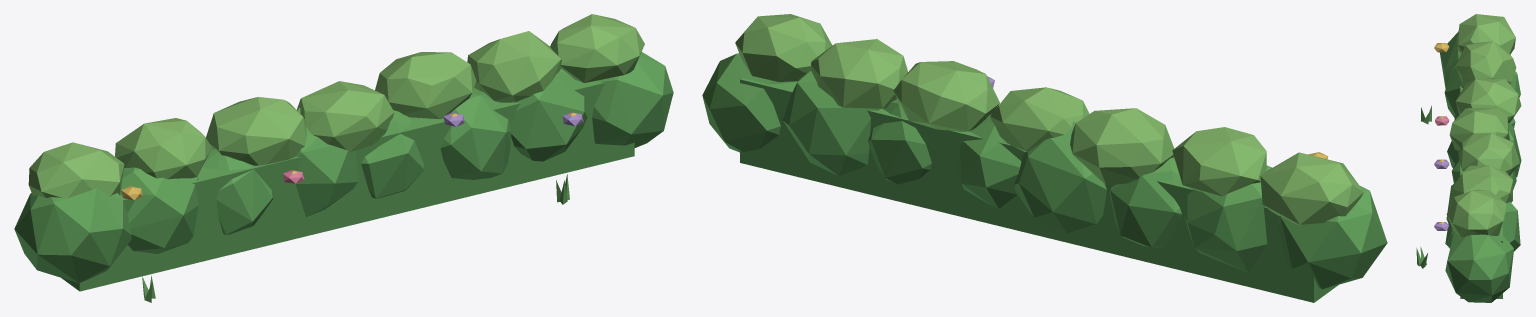
The model's file is ranch_border_hedge_long.fbx.
3 views of the same model, side by side, from view 1: azimuth 30°, elevation 25°; view 2: azimuth 150°, elevation 25°; view 3: azimuth 270°, elevation 25° (orthographic). The views are drawn at different scales.
Visible parts, largest first — view 1: ranch_border_hedge_long; view 2: ranch_border_hedge_long; view 3: ranch_border_hedge_long.
Part boxes in pixels (x1,y1,x2,y2): ranch_border_hedge_long: [14, 14, 673, 302]; ranch_border_hedge_long: [702, 14, 1387, 302]; ranch_border_hedge_long: [1416, 14, 1521, 302].
Size of the model in its own units: 24.97 by 5.06 by 4.92.
